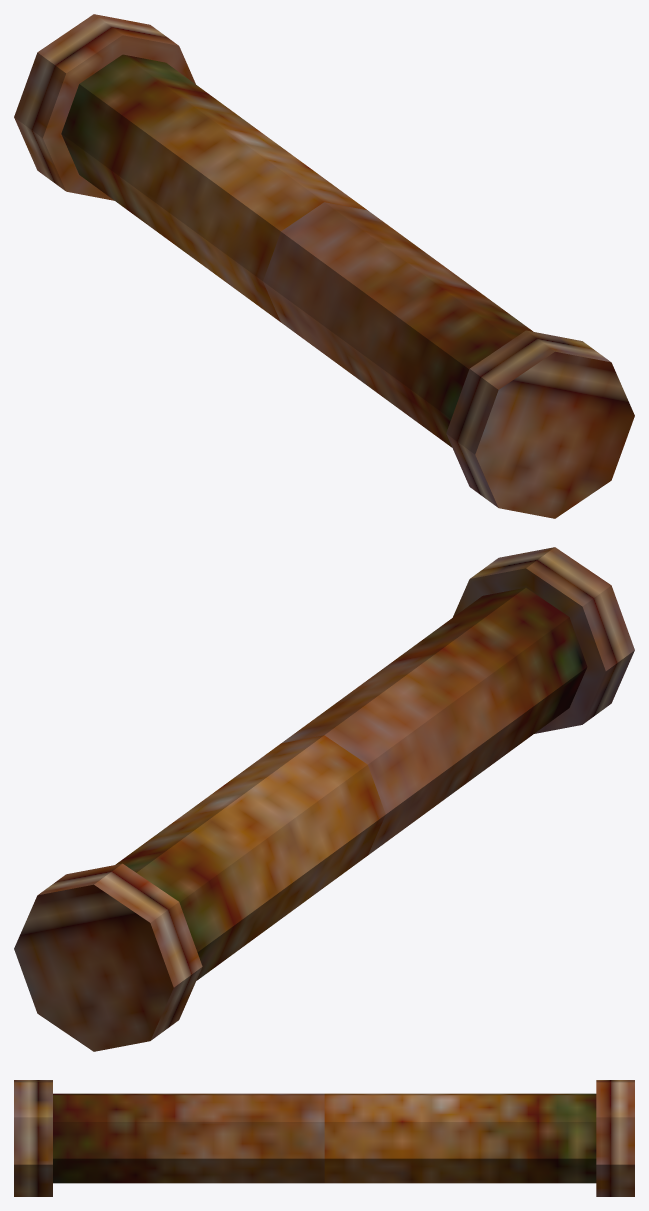
The model's file is MO_PIPE_SMALL_01.fbx.
3 renders of one model, top to bottom at view 1: azimuth 30°, elevation 25°; view 2: azimuth 150°, elevation 25°; view 3: azimuth 270°, elevation 25°, orthographic. The views are drawn at different scales.
Visible parts, largest first — view 1: MO_PIPE_SMALL_01; view 2: MO_PIPE_SMALL_01; view 3: MO_PIPE_SMALL_01.
Part boxes in pixels (x1=…): MO_PIPE_SMALL_01: x1=14, y1=14, x2=634, y2=518; MO_PIPE_SMALL_01: x1=14, y1=547, x2=634, y2=1051; MO_PIPE_SMALL_01: x1=14, y1=1080, x2=634, y2=1196.
Size of the model in its own units: 0.2 by 0.2 by 1.
